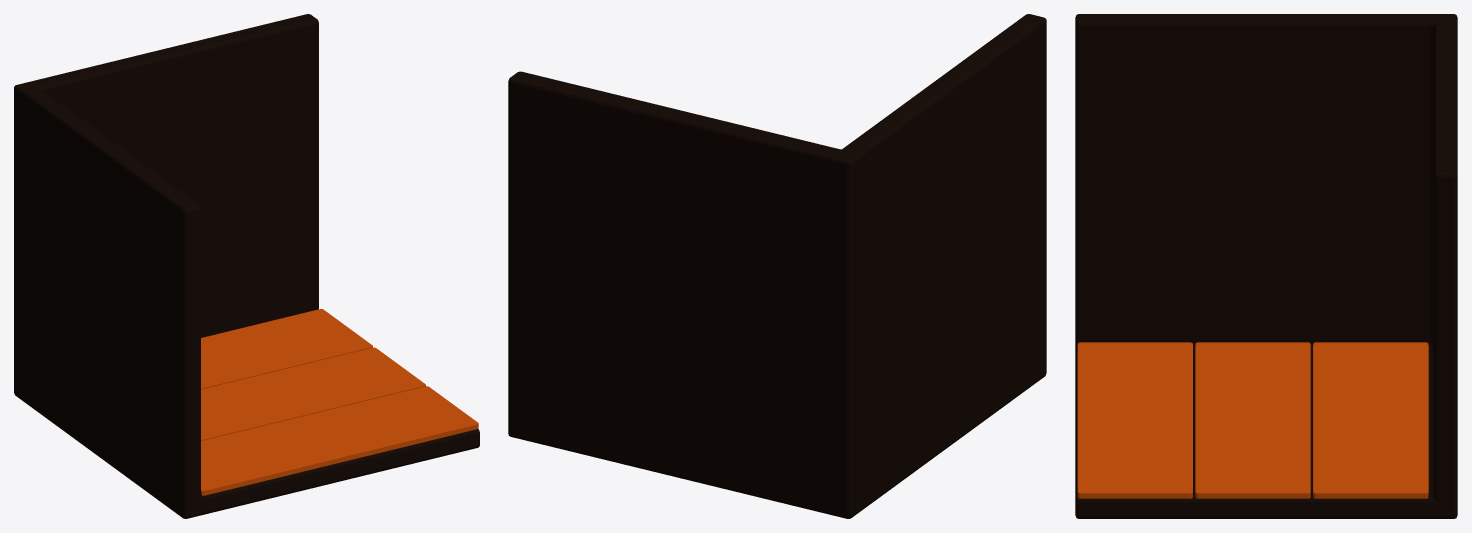
The model's file is room.obj.
The picture shows the model from 3 angles, left to right: view 1: azimuth 30°, elevation 25°; view 2: azimuth 150°, elevation 25°; view 3: azimuth 270°, elevation 25°; orthographic projection. The views are drawn at different scales.
Visible parts, largest first — view 1: Cube, Cube.001; view 2: Cube; view 3: Cube, Cube.001.
Boxes of the visible parts, box(x1,y1,x2,y2) form: Cube: box(14, 14, 479, 518); Cube.001: box(201, 309, 478, 495); Cube: box(508, 14, 1046, 518); Cube: box(1075, 14, 1457, 518); Cube.001: box(1077, 342, 1428, 498).
Bounding box in the file's own units: 11.51 × 11.51 × 11.51.
